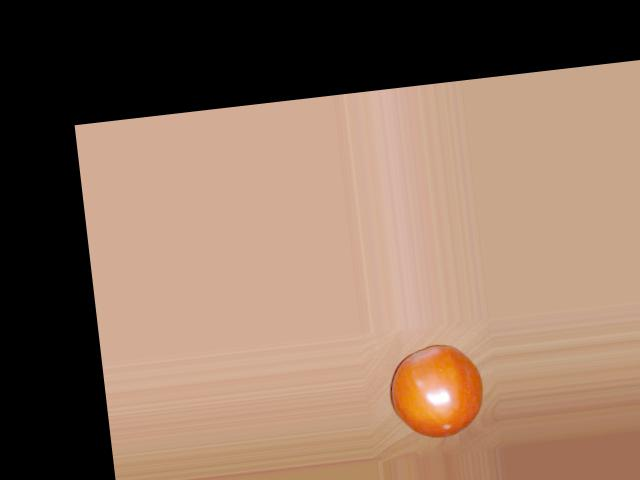tomato: (386, 340, 489, 442)
